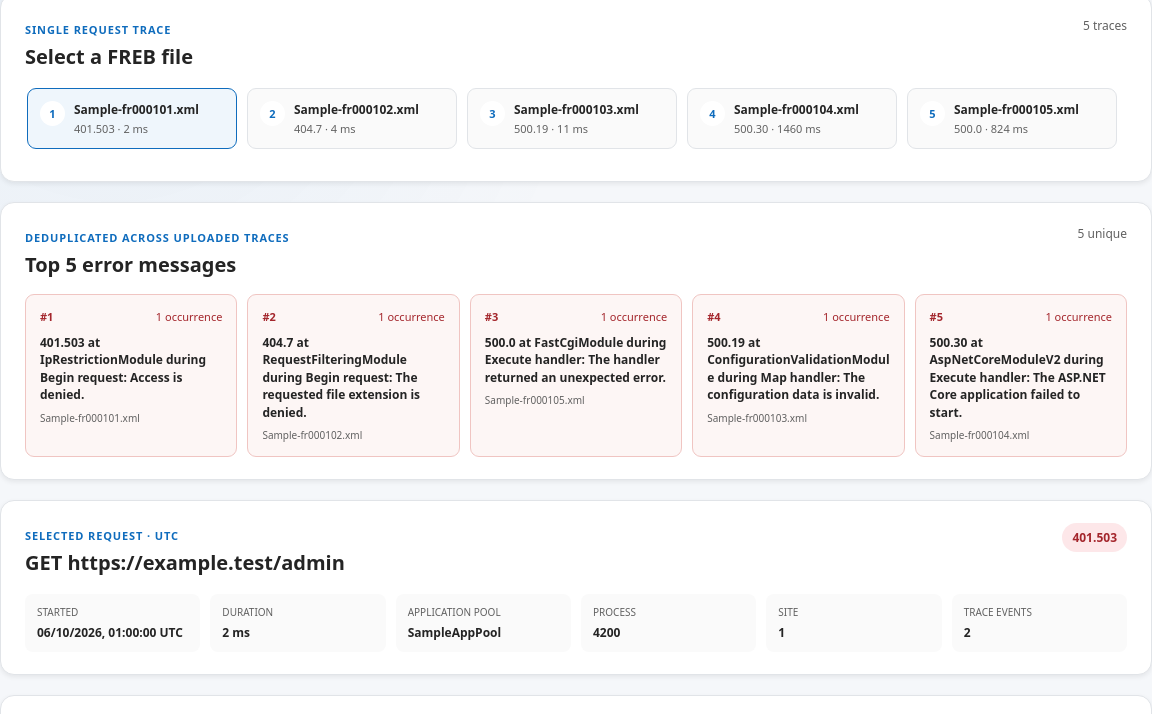
Test: FrebDashboard › selects the first trace by default and changes the pipeline guidance
The width and height of the screenshot is (1152, 714).
Click the button "2 Sample-fr000102.xml 404.7 · 4 ms" at (352, 118), box 247,88 -> 457,149
(page scrolled)
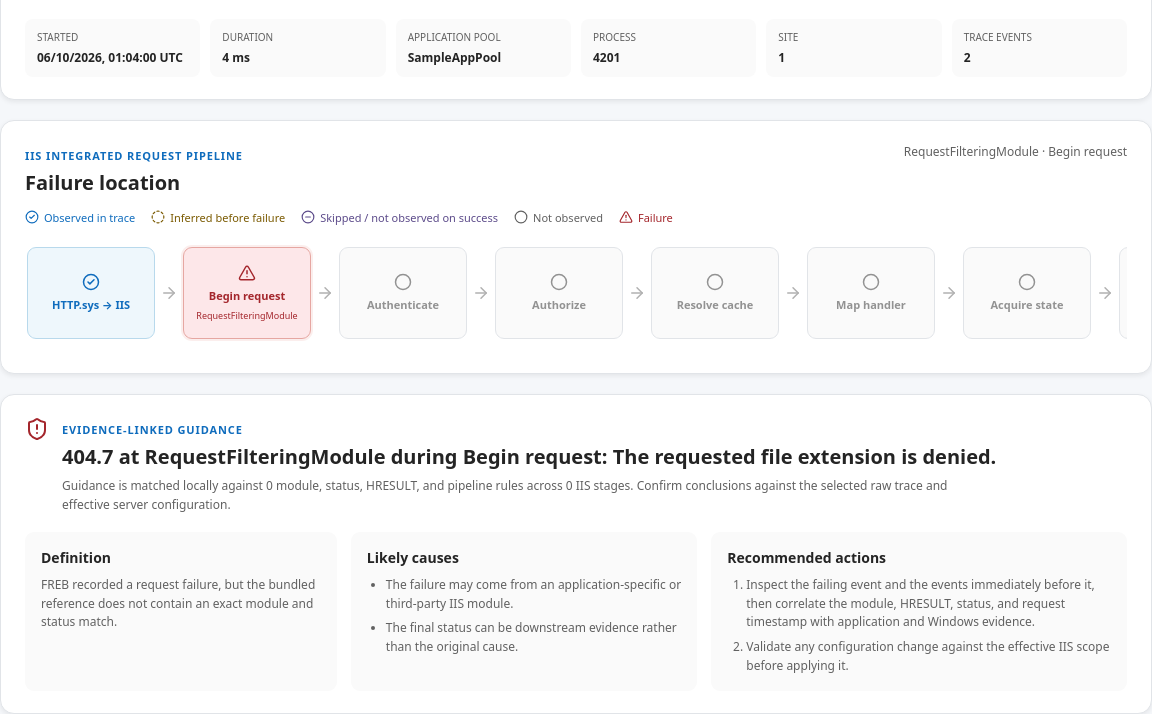
Expected: the heading "404.7 at RequestFilteringModule" is shown, 62,443 -> 996,470
